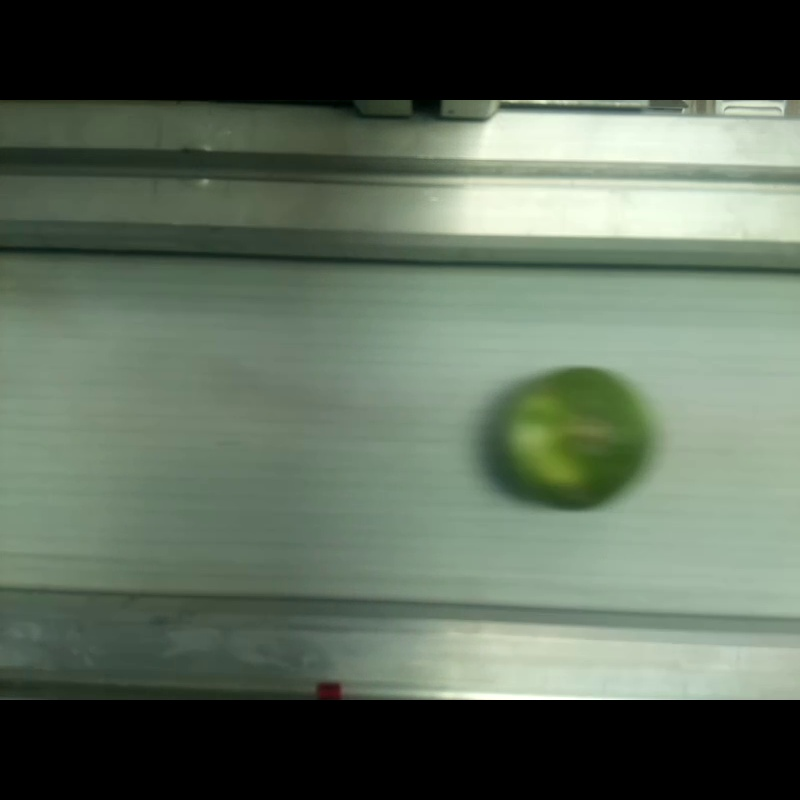lime: (494, 366, 647, 509)
